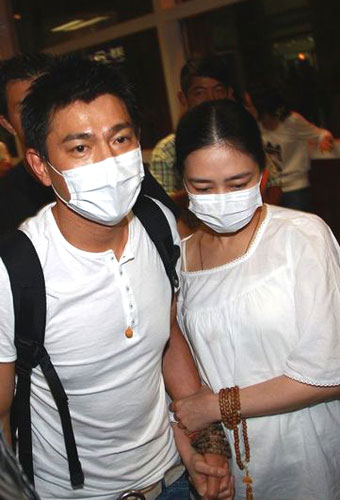face: (188, 73, 227, 131)
face_mask: (49, 90, 140, 225), (187, 141, 257, 234), (8, 80, 44, 148)
